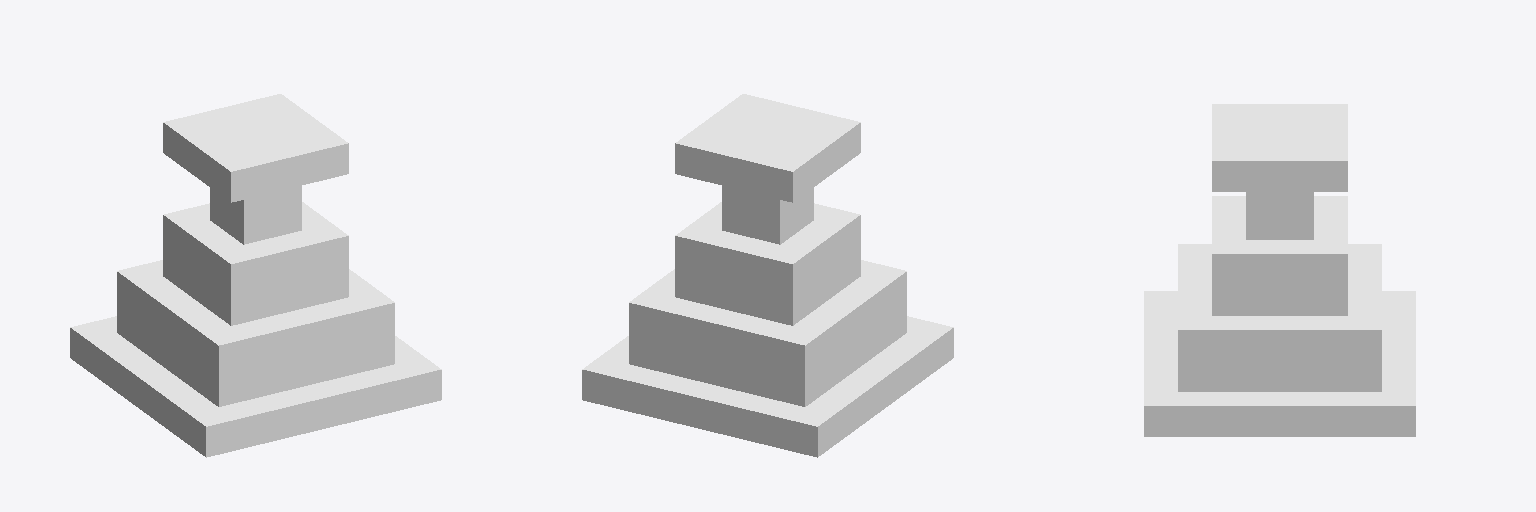
Rendered from potioningredient.obj.
The picture shows the model from 3 angles: view 1: azimuth 30°, elevation 25°; view 2: azimuth 150°, elevation 25°; view 3: azimuth 270°, elevation 25°; orthographic projection.
Visible parts, largest first — view 1: object 1; view 2: object 1; view 3: object 1.
Boxes of the visible parts, <box> form: object 1: <box>70,94,441,457</box>; object 1: <box>582,94,953,457</box>; object 1: <box>1144,104,1415,436</box>.
Size of the model in its own units: 0.8 by 0.8 by 0.8.